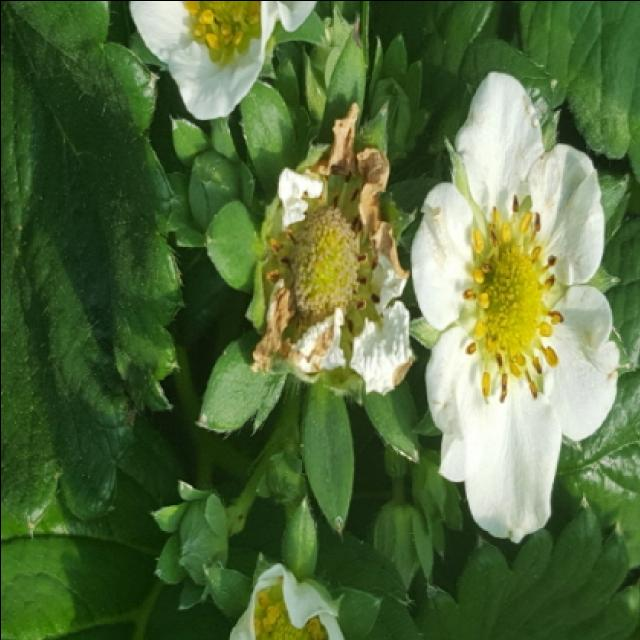Blossom Blight: (458, 191, 568, 405), (261, 166, 385, 353)
